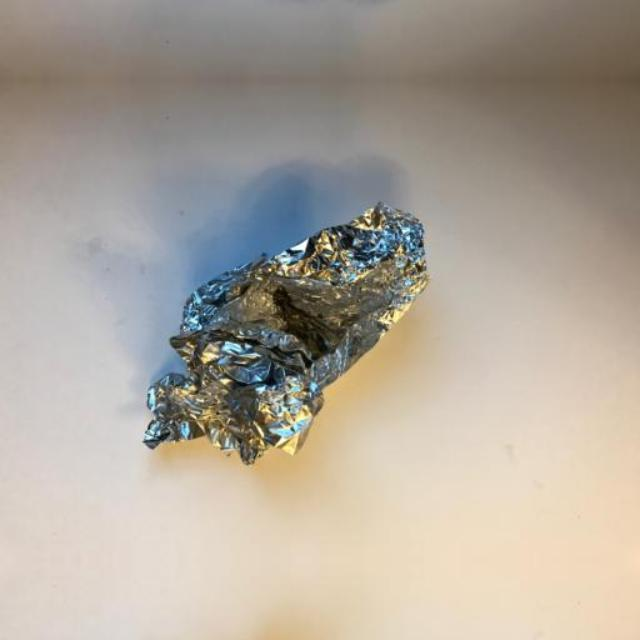Metal: (124, 190, 453, 482), (124, 637, 453, 640)
